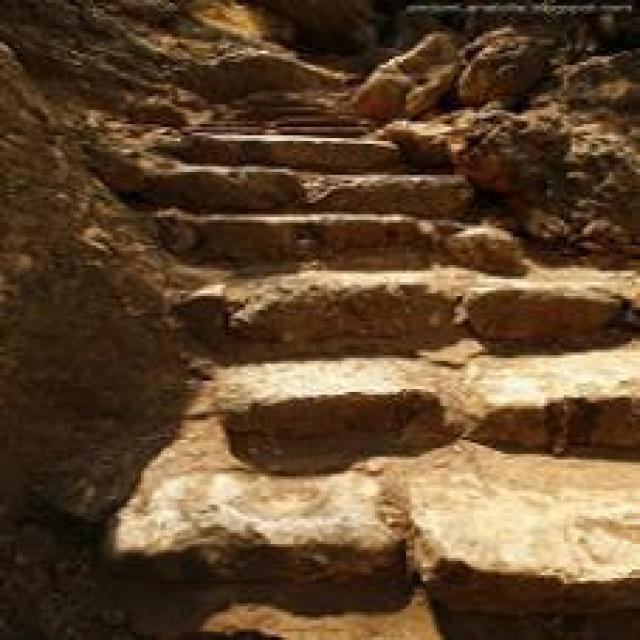upstair: (168, 159, 633, 418)
